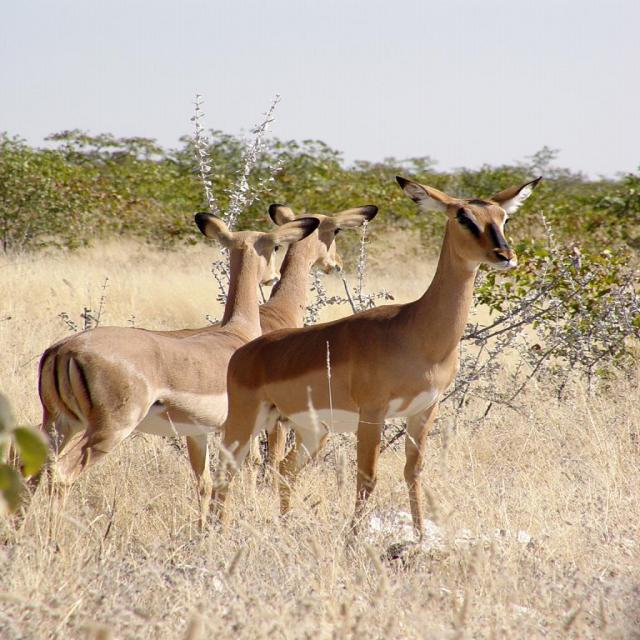Deer: (240, 194, 540, 568), (30, 218, 300, 530)
